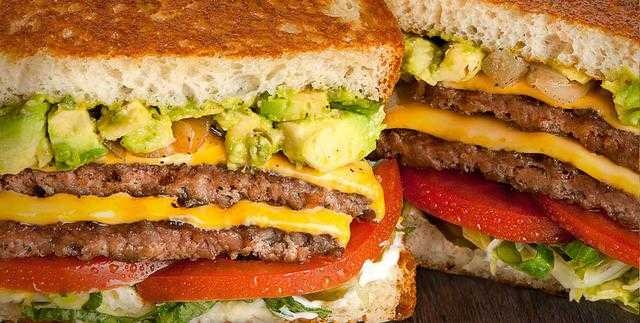hamburger: (1, 1, 402, 317), (386, 4, 640, 315)
